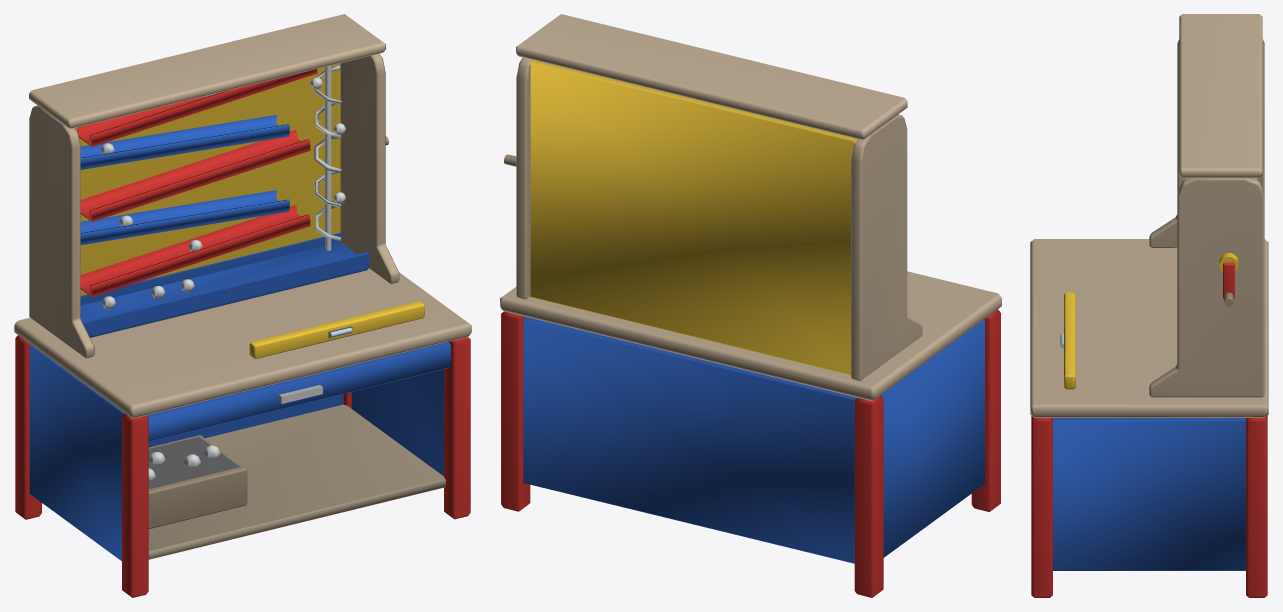
File: ball_track.glb
3 views of the same model, side by side, from view 1: azimuth 30°, elevation 25°; view 2: azimuth 150°, elevation 25°; view 3: azimuth 270°, elevation 25° (orthographic). The views are drawn at different scales.
Parts seen in each view (by area): view 1: funhouse_ball_track; view 2: funhouse_ball_track; view 3: funhouse_ball_track.
Boxes of the visible parts, left/top/right/bottom form: funhouse_ball_track: left=14, top=14, right=471, bottom=597; funhouse_ball_track: left=500, top=14, right=1001, bottom=597; funhouse_ball_track: left=1030, top=14, right=1268, bottom=597.
Bounding box in the file's own units: 1.03 × 1.18 × 0.6.
